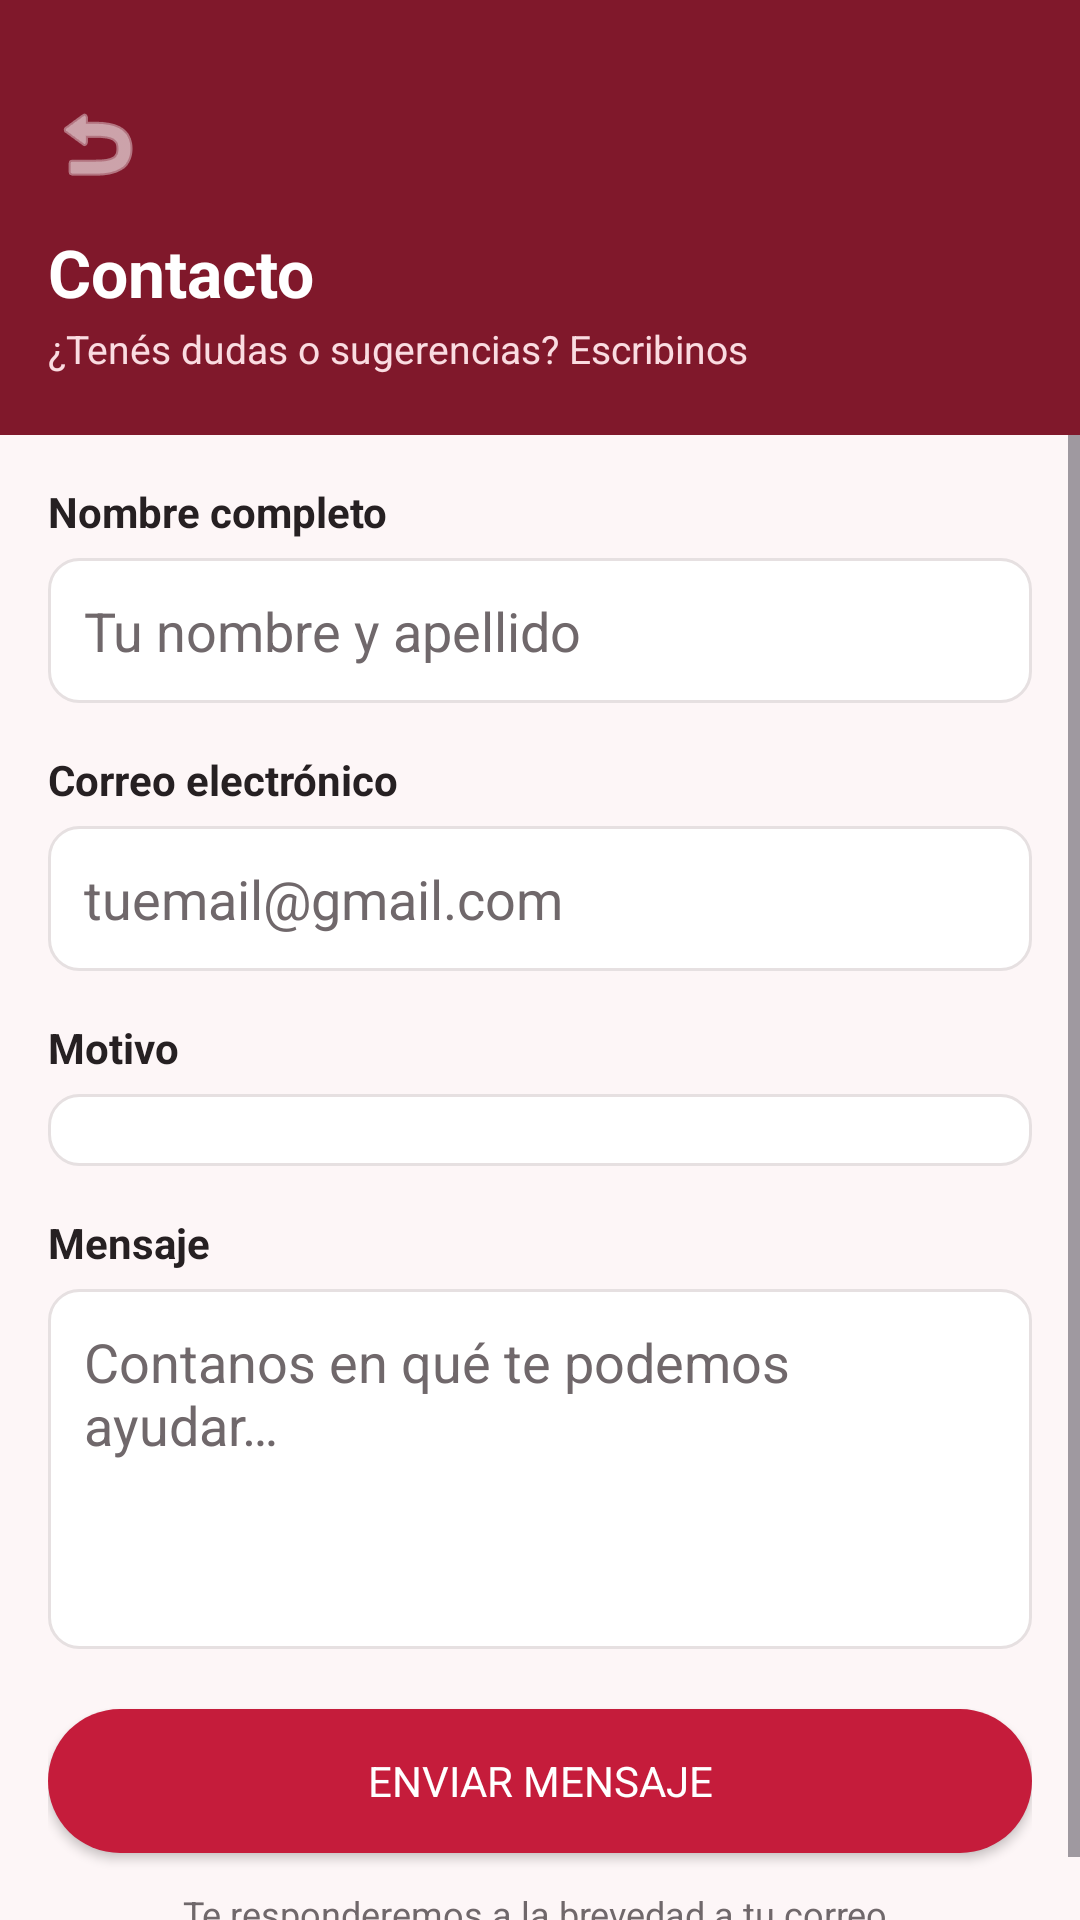

Where icons sit on this 1080 × 1920 app screen, as [x1=x1, y1=y1, x2=x2, y2=y2]:
Volver: [x1=64, y1=113, x2=133, y2=176]
